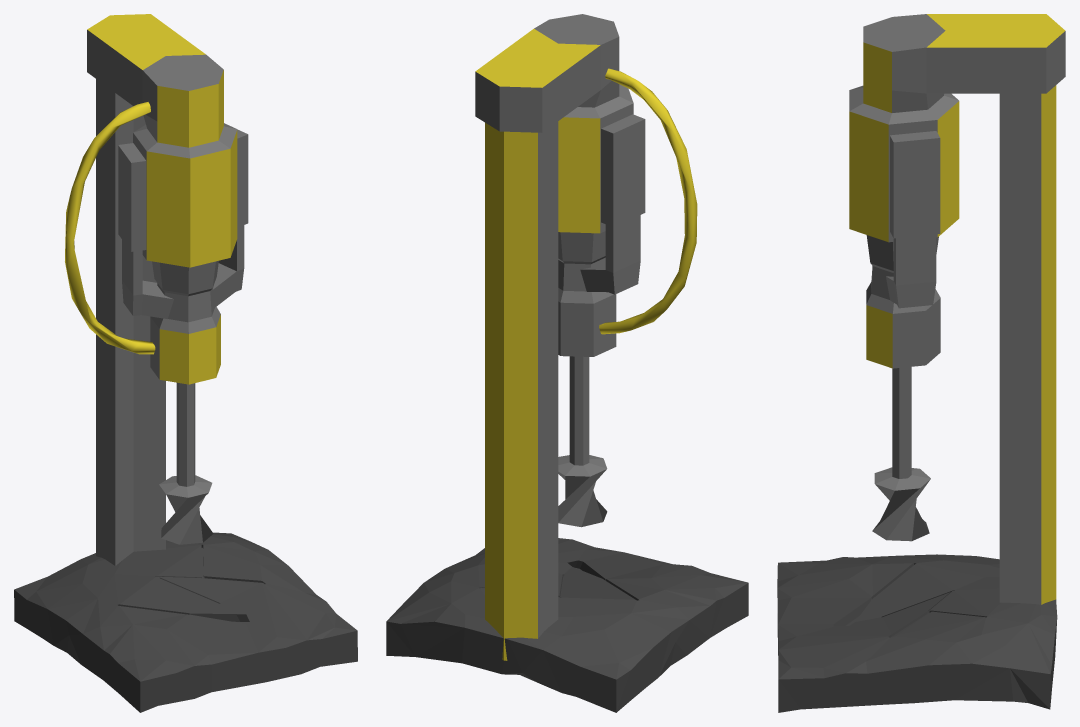
File: StoneGenLevel6.fbx
3 renders of one model, left to right at view 1: azimuth 30°, elevation 25°; view 2: azimuth 150°, elevation 25°; view 3: azimuth 270°, elevation 25°, orthographic. The views are drawn at different scales.
Parts seen in each view (by area): view 1: Cylinder, Cube.005, NurbsPath; view 2: Cylinder, Cube.005, NurbsPath; view 3: Cylinder, Cube.005.
Part boxes in pixels (x1,y1,x2,y2): Cylinder: (87,14,248,565); Cube.005: (14,532,357,712); NurbsPath: (65,102,155,354); Cylinder: (475,14,645,660); Cube.005: (386,538,748,712); NurbsPath: (599,68,697,334); Cylinder: (849,14,1065,604); Cube.005: (777,554,1057,712).
Size of the model in its own units: 1.45 by 3.45 by 1.45.
